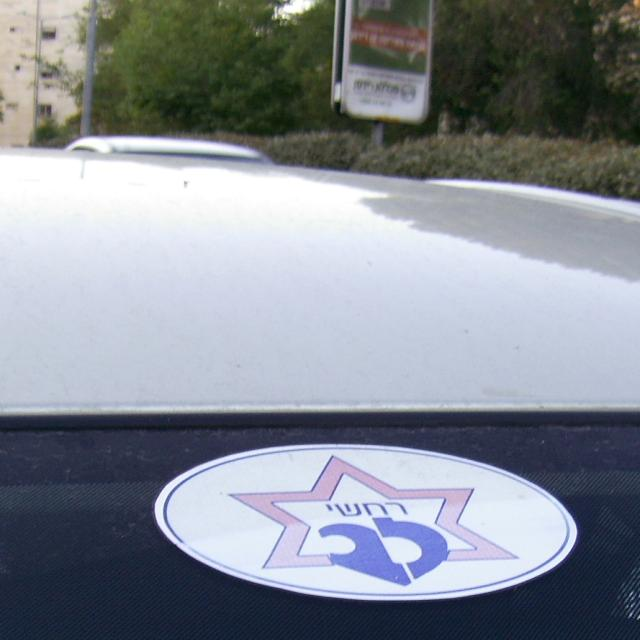car: (64, 137, 270, 162)
